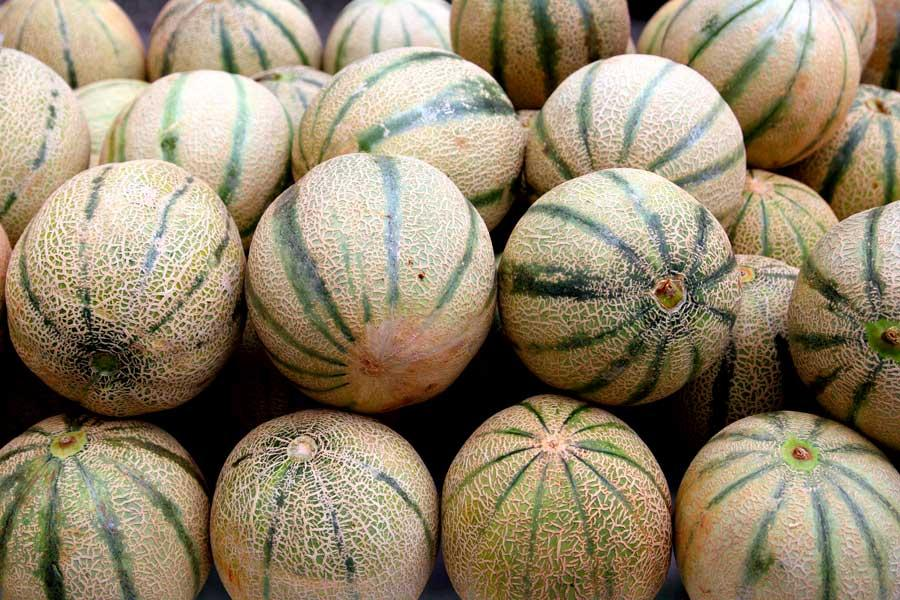cantaloupe: (1, 0, 897, 598), (243, 150, 498, 412), (3, 157, 246, 416), (496, 165, 742, 406), (440, 392, 673, 598), (291, 44, 527, 230), (208, 408, 439, 598), (673, 408, 898, 598), (0, 411, 211, 598), (522, 52, 747, 225), (635, 0, 864, 169), (784, 197, 899, 449)
